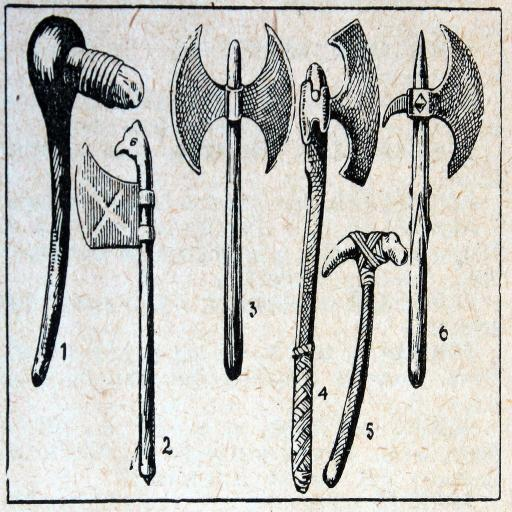Axe: (169, 20, 296, 374), (299, 19, 380, 495), (382, 24, 484, 388), (75, 120, 154, 482)
